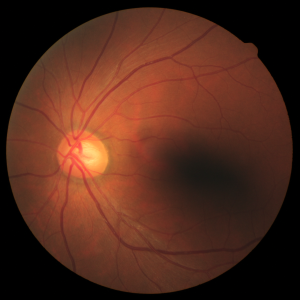glaucoma: (35, 109, 228, 225)
